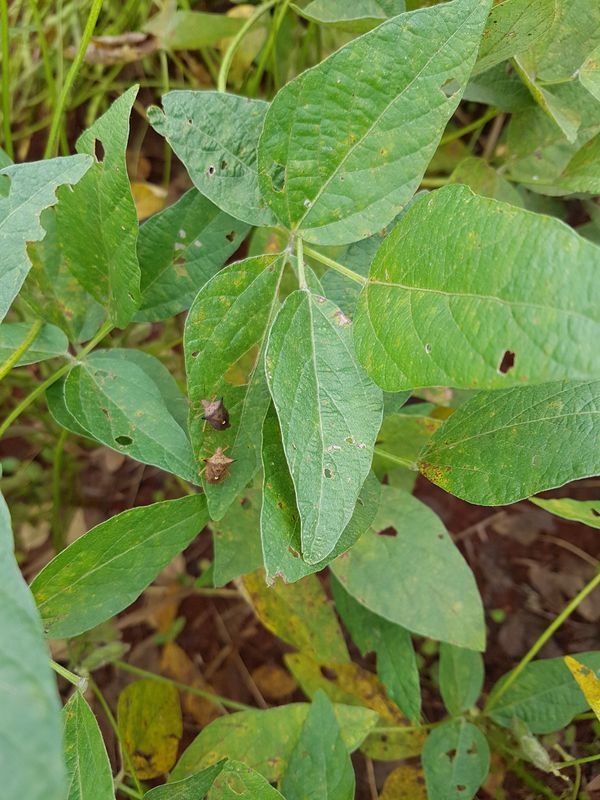Euschistus_heros_adulto: (189, 437, 244, 494), (186, 390, 242, 435)
